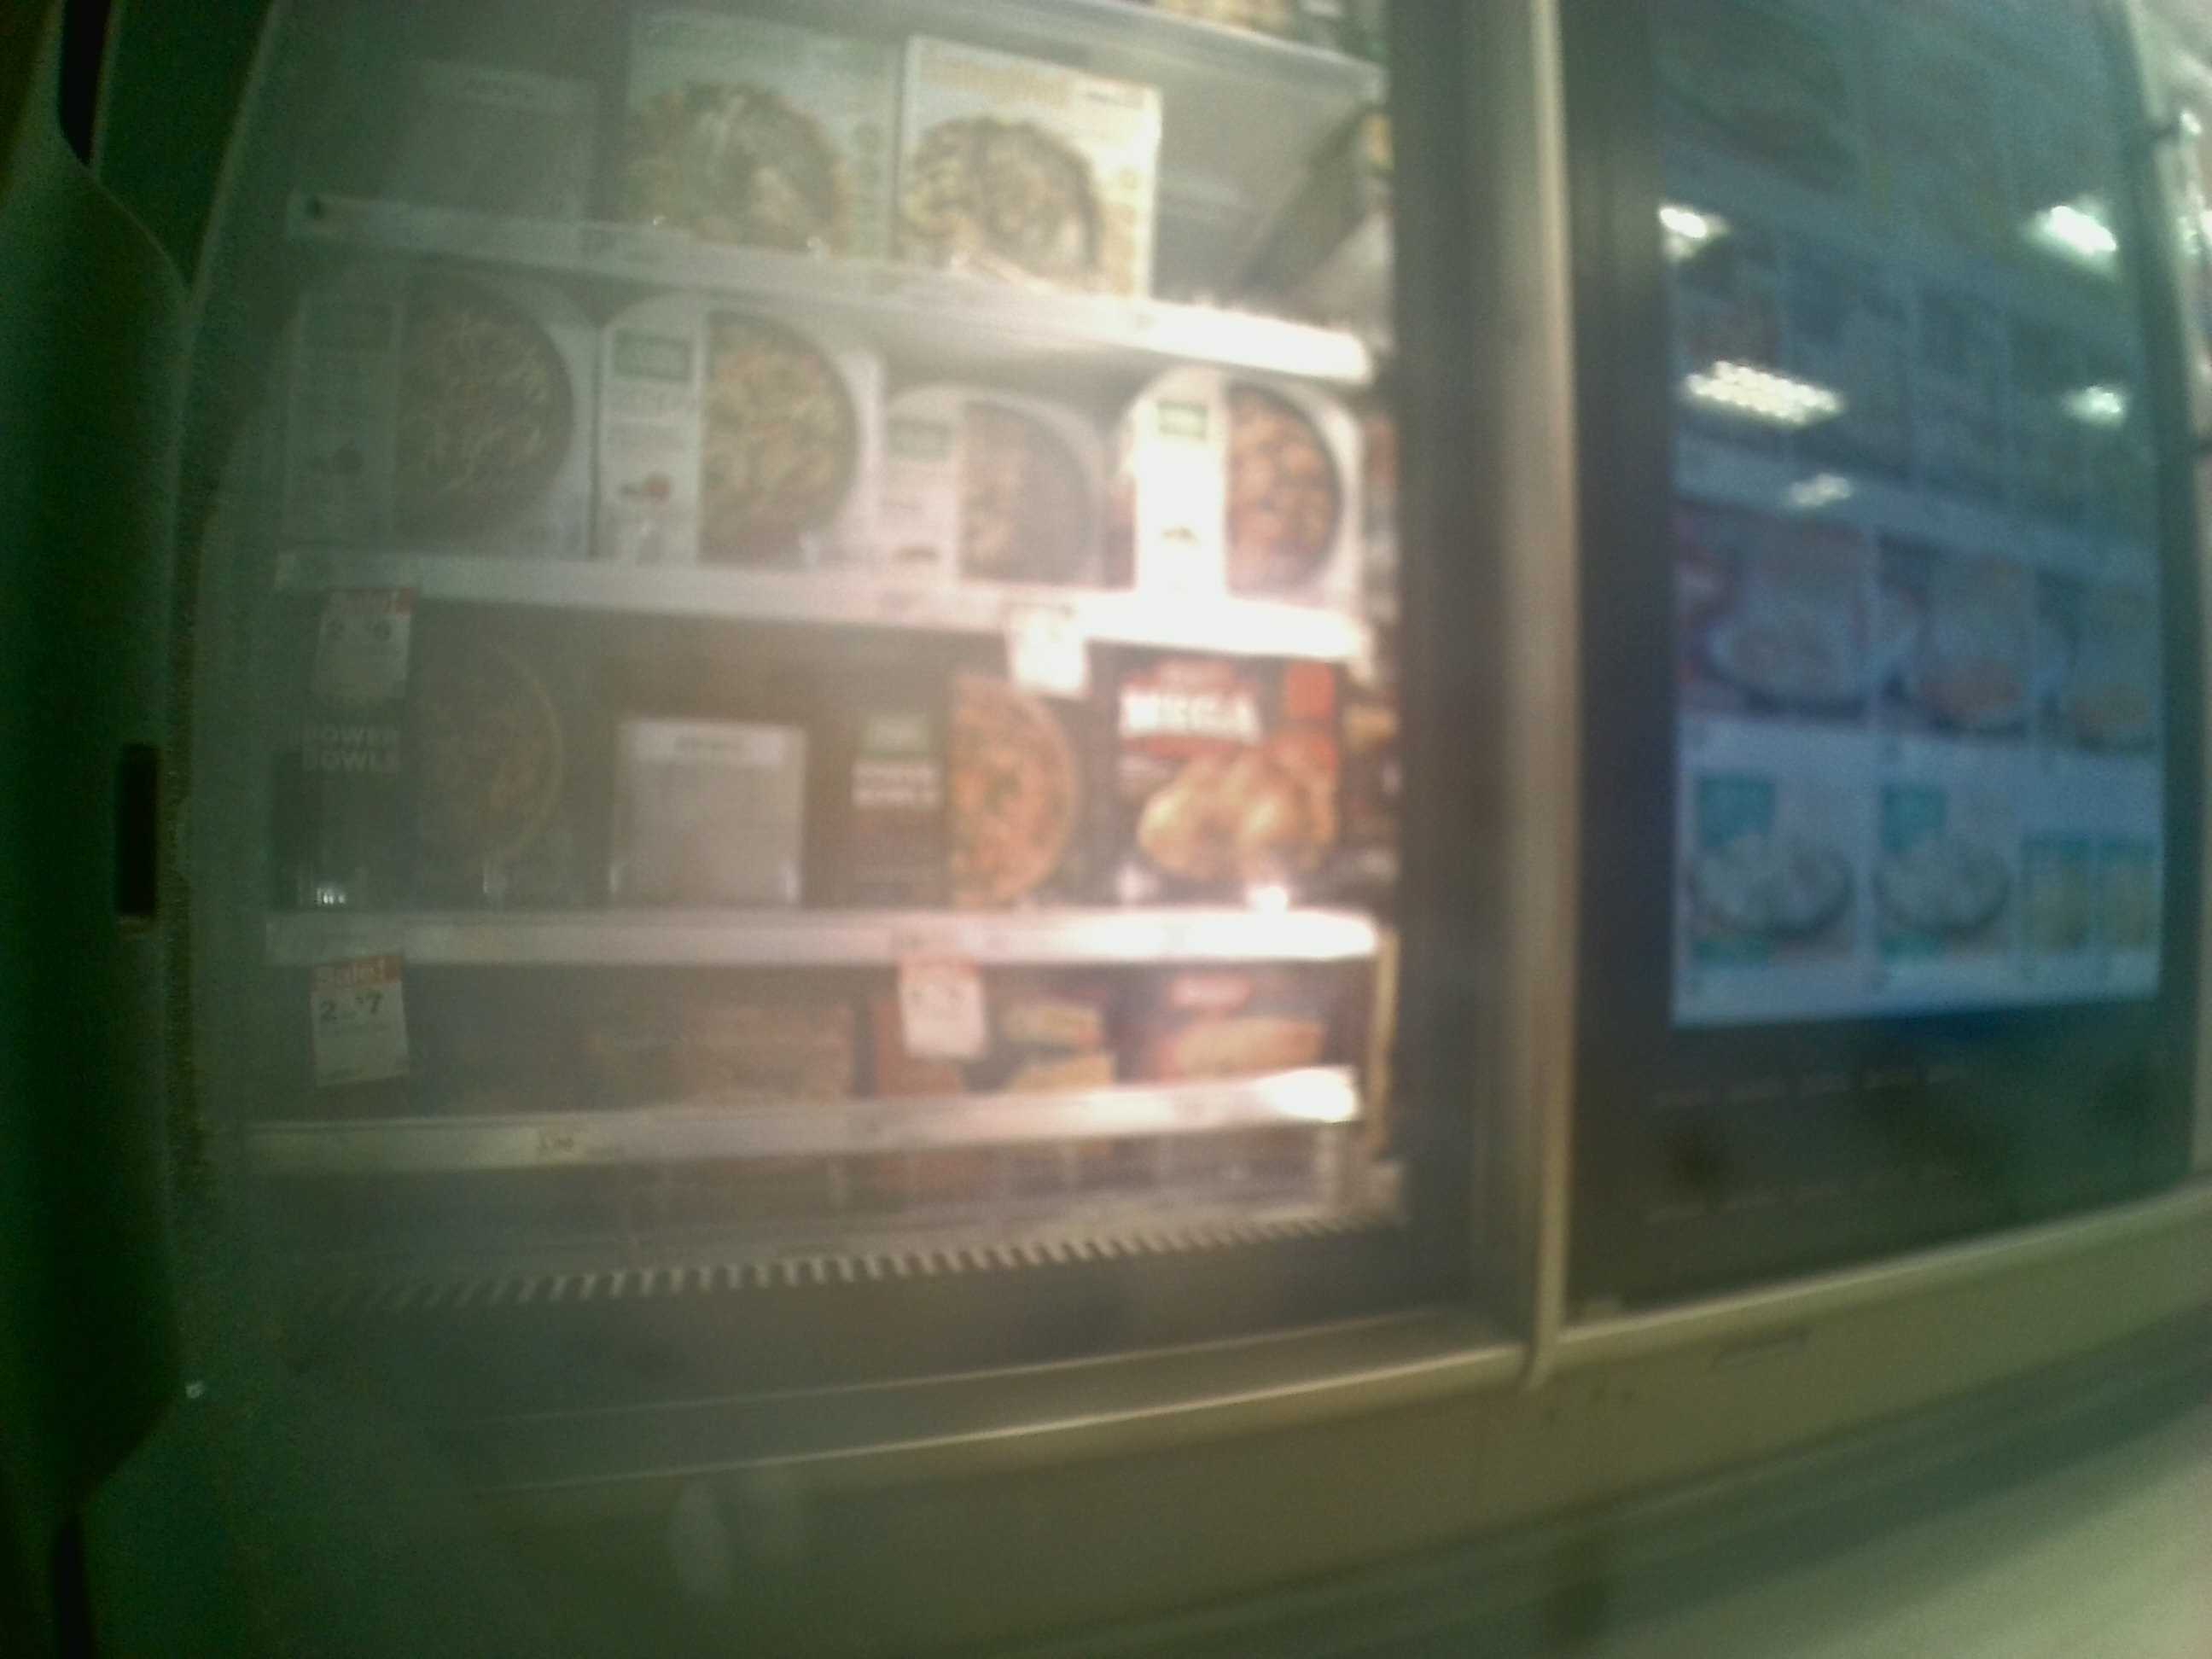pizza: (289, 608, 585, 904), (298, 254, 578, 551), (596, 286, 888, 556), (829, 657, 1103, 904), (1104, 636, 1346, 911), (603, 28, 892, 256), (909, 38, 1165, 284), (1144, 373, 1355, 612), (902, 369, 1120, 592)
